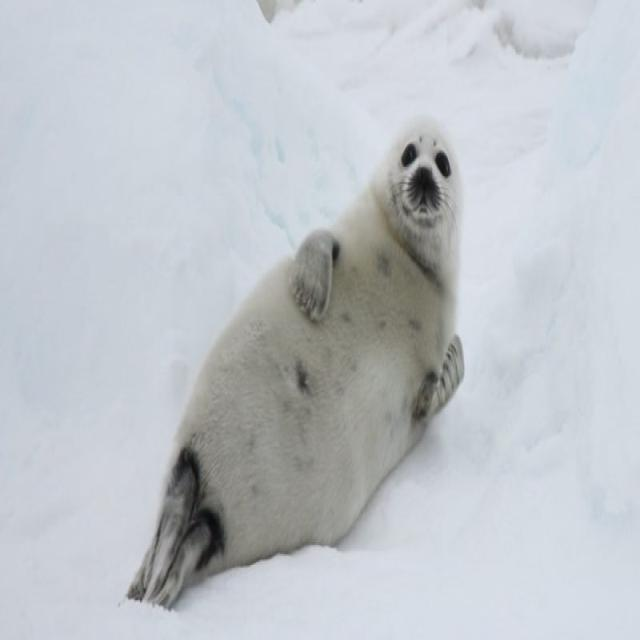WaterDog: (123, 107, 470, 616)
